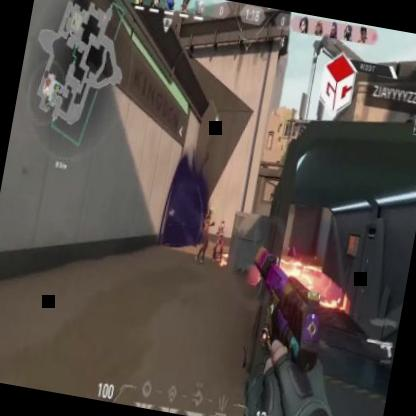enemy: (193, 204, 218, 266), (210, 220, 228, 262)
enemy_head: (207, 206, 213, 218), (221, 219, 224, 228)
